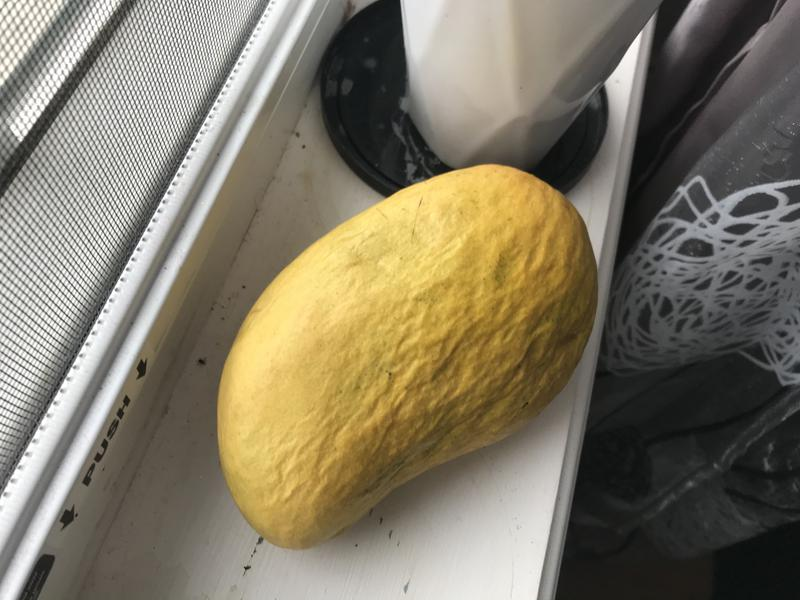mango: (205, 153, 610, 553)
